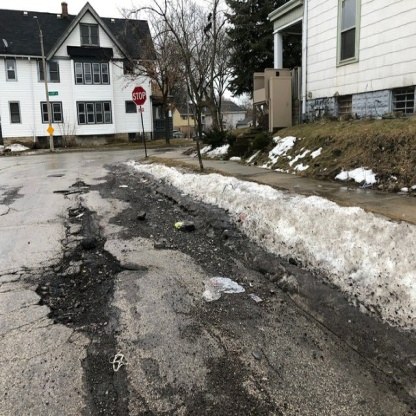pothole: (38, 185, 149, 345)
